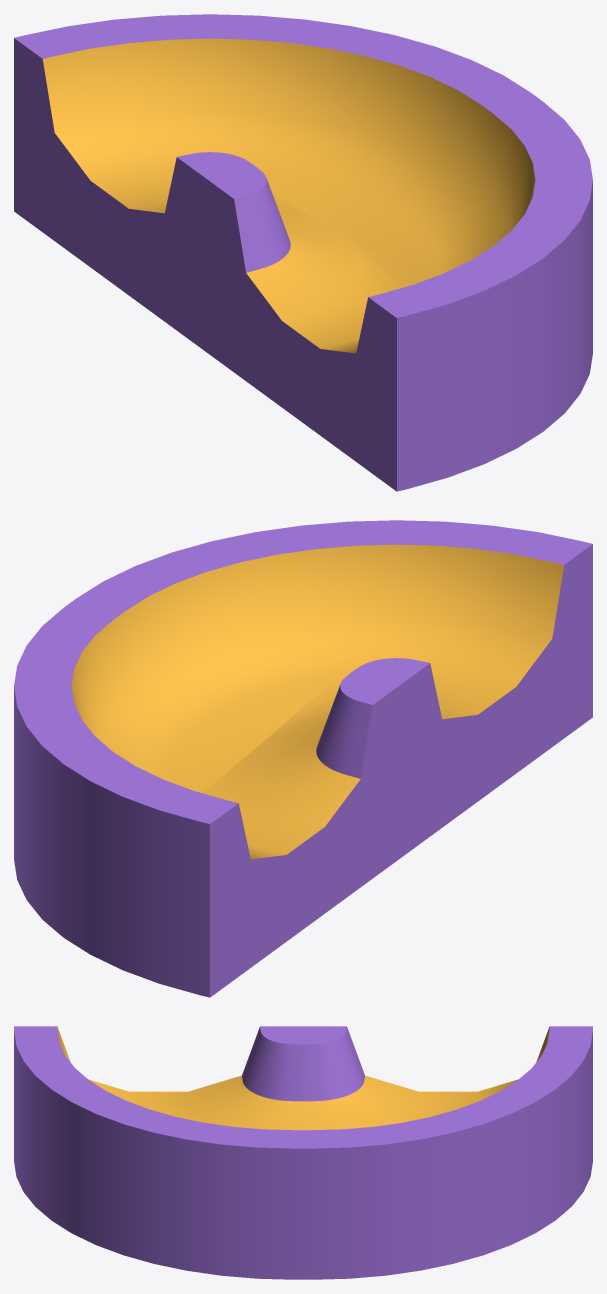
File: bend-col.glb
3 renders of one model, top to bottom at view 1: azimuth 30°, elevation 25°; view 2: azimuth 150°, elevation 25°; view 3: azimuth 270°, elevation 25°, orthographic. The views are drawn at different scales.
Visible parts, largest first — view 1: bend-col; view 2: bend-col; view 3: bend-col.
Part boxes in pixels (bbox=[...]): bend-col: bbox=[14, 14, 592, 491]; bend-col: bbox=[14, 520, 592, 997]; bend-col: bbox=[14, 1026, 592, 1279].
Bounding box in the file's own units: 1 × 0.5 × 2.
1 material, 1 textured.
